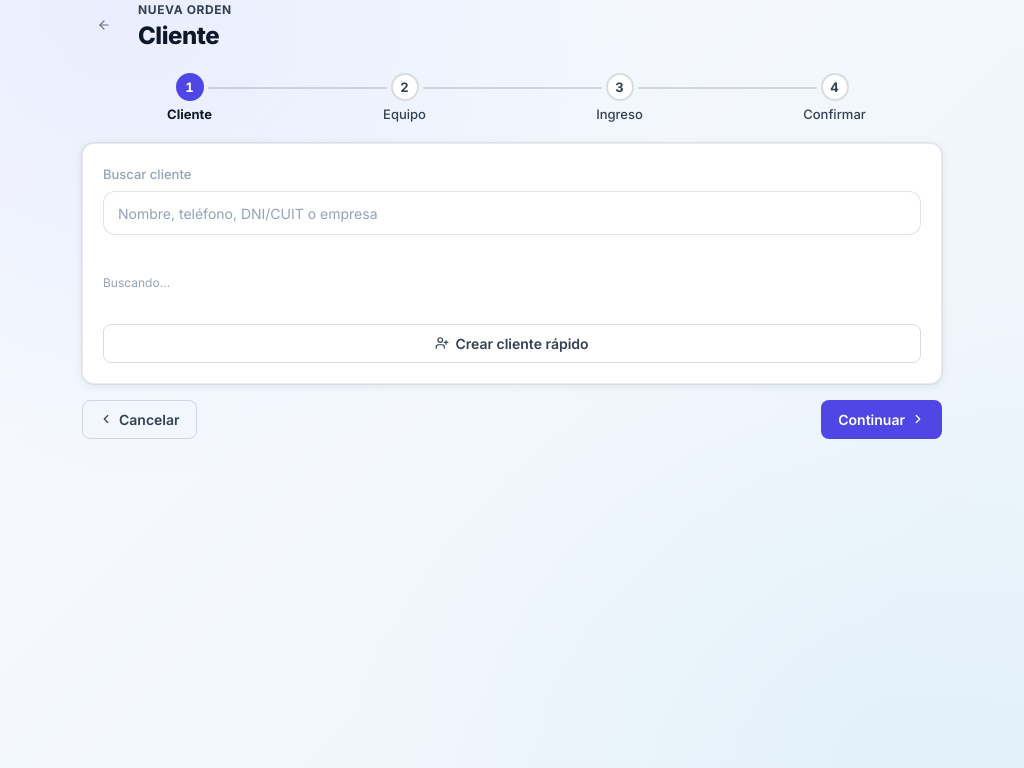
alta rápida · el error de mayorista se muestra UNA sola vez › renderiza exactamente un mensaje visible para el error de razón social
The image size is (1024, 768).
Click the button "Crear cliente rápido": click(512, 343) [103, 324, 921, 363]
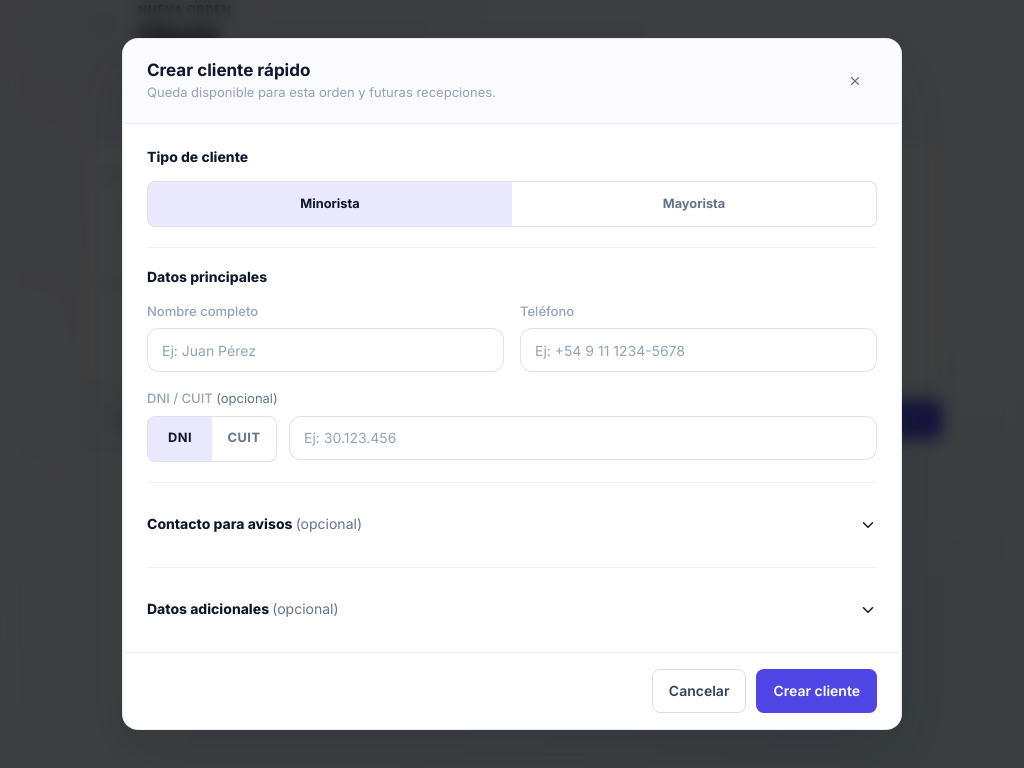
Click the button with test id "customer-type-mayorista": click(694, 204) [512, 182, 876, 226]
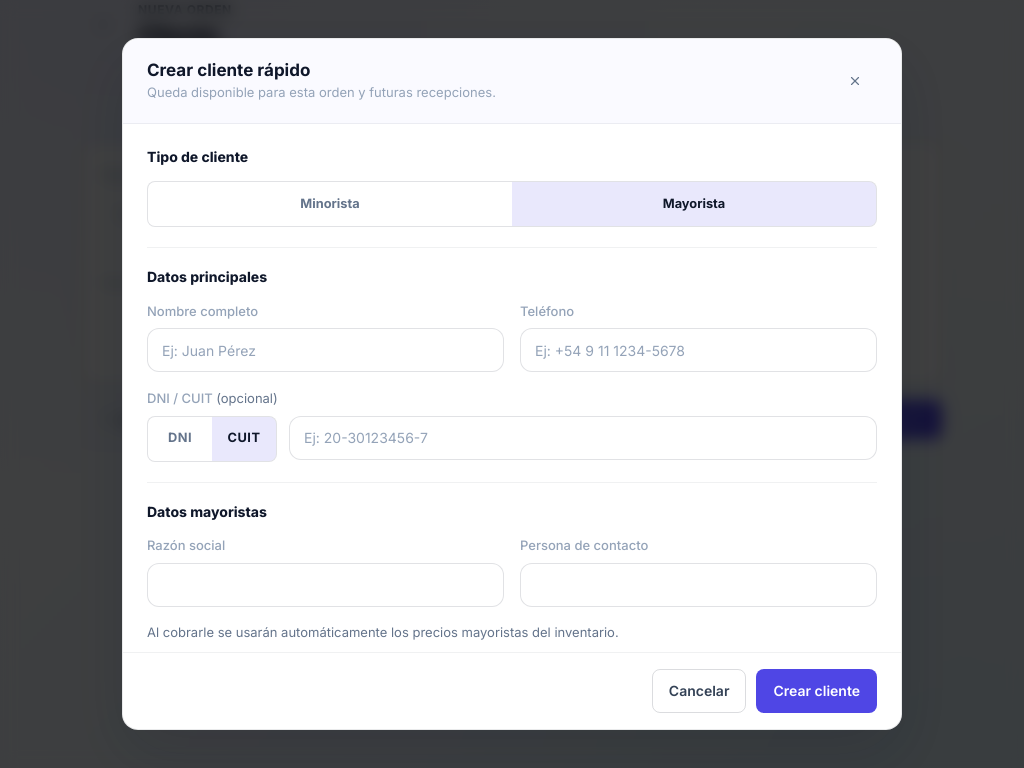
In the field labelled "Nombre completo": (326, 350) [147, 328, 504, 372], type "QA Contacto"
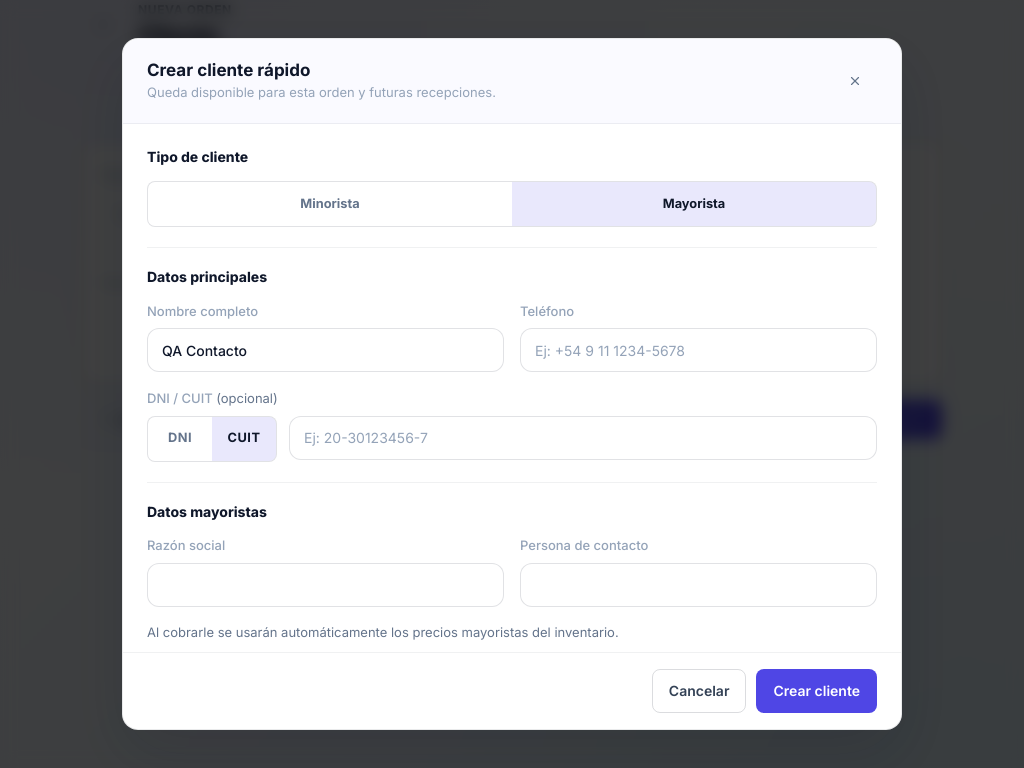
In the field labelled "Teléfono": (698, 350) [520, 328, 877, 372], type "3510000001"
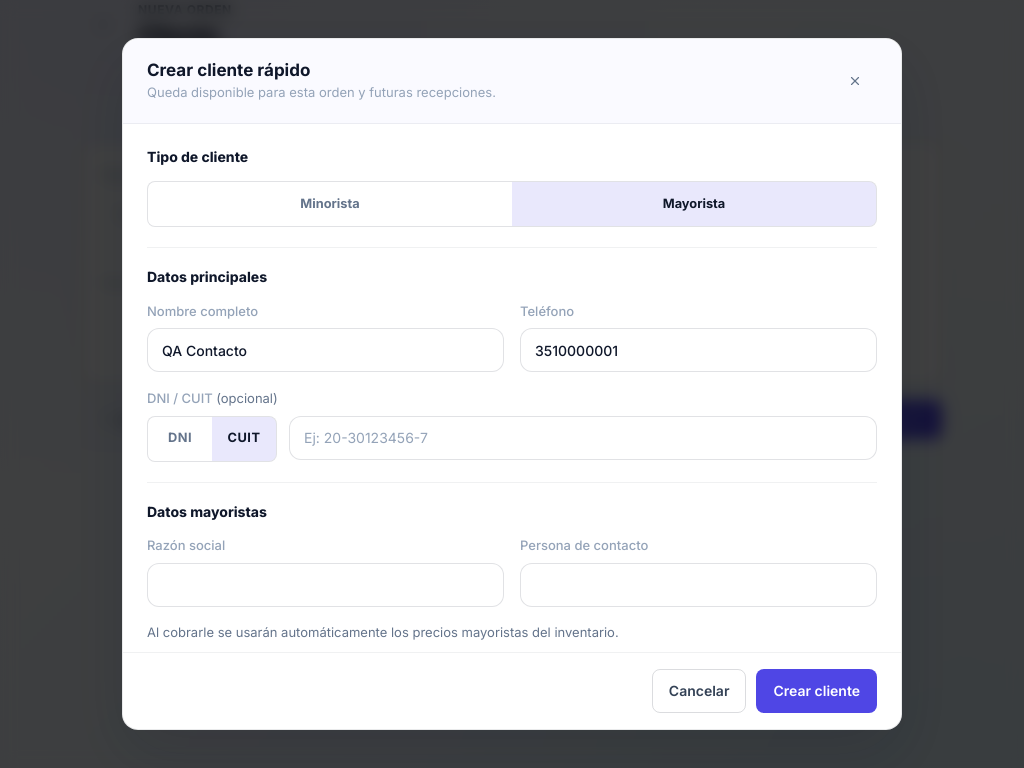
Click the button "Crear cliente": click(817, 691) [756, 669, 877, 713]
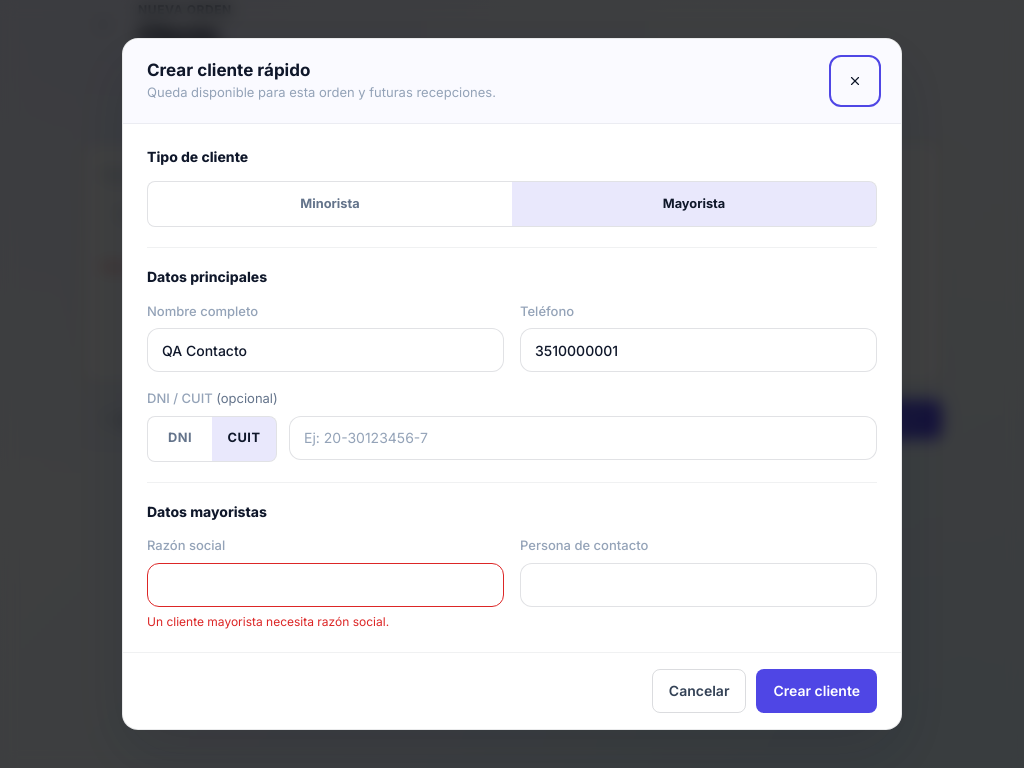
Expected: the text "Un cliente mayorista necesita razón social." is shown once, [147, 614, 389, 629]
